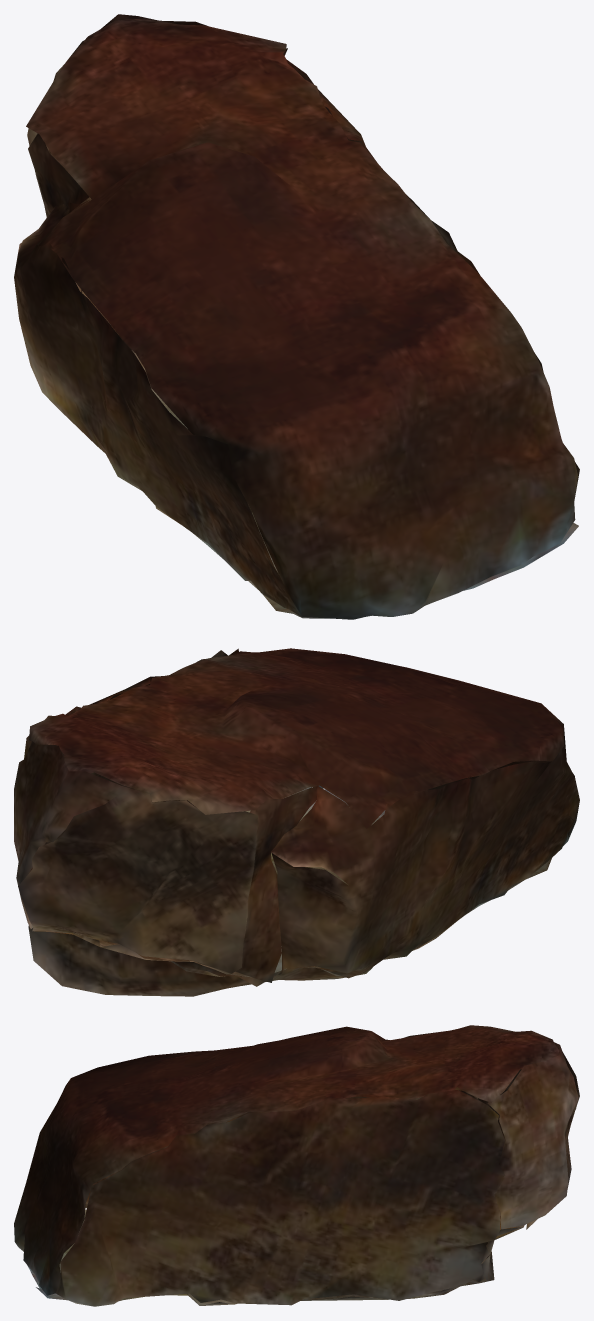
File: rockSmall.glb
3 renders of one model, top to bottom at view 1: azimuth 30°, elevation 25°; view 2: azimuth 150°, elevation 25°; view 3: azimuth 270°, elevation 25°, orthographic. The views are drawn at different scales.
Parts seen in each view (by area): view 1: rock_07; view 2: rock_07; view 3: rock_07.
Boxes of the visible parts, x1=… form: rock_07: x1=14, y1=14, x2=579, y2=619; rock_07: x1=14, y1=648, x2=579, y2=996; rock_07: x1=14, y1=1025, x2=579, y2=1306.
Bounding box in the file's own units: 0.1697 × 0.1432 × 0.321.
1 material, 1 textured.
